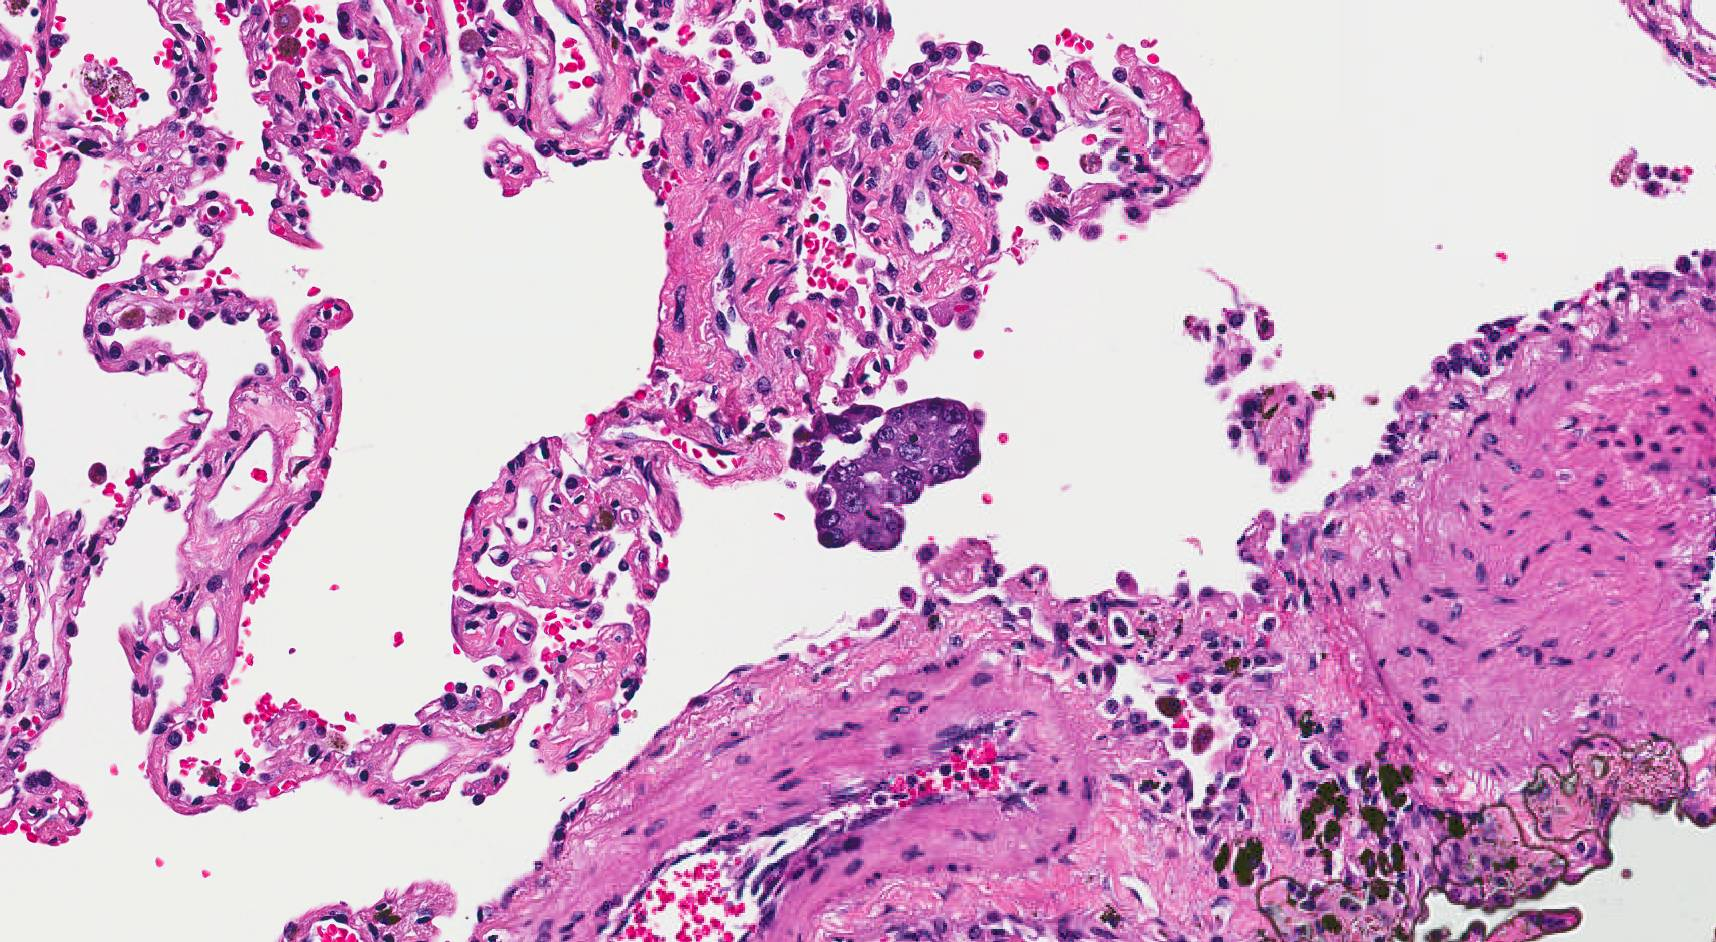stas: (789, 398, 986, 554)
